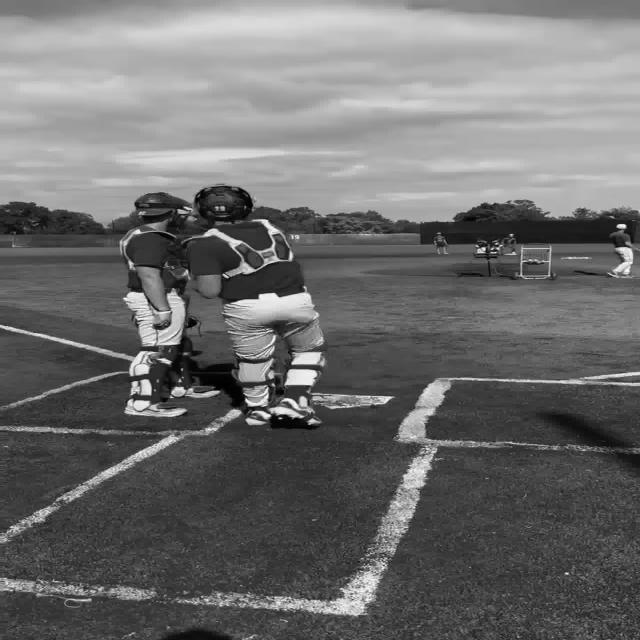base: (310, 392, 392, 408)
shoe: (272, 398, 322, 426), (123, 398, 187, 417), (169, 385, 220, 398), (244, 406, 272, 426), (605, 271, 618, 278)
